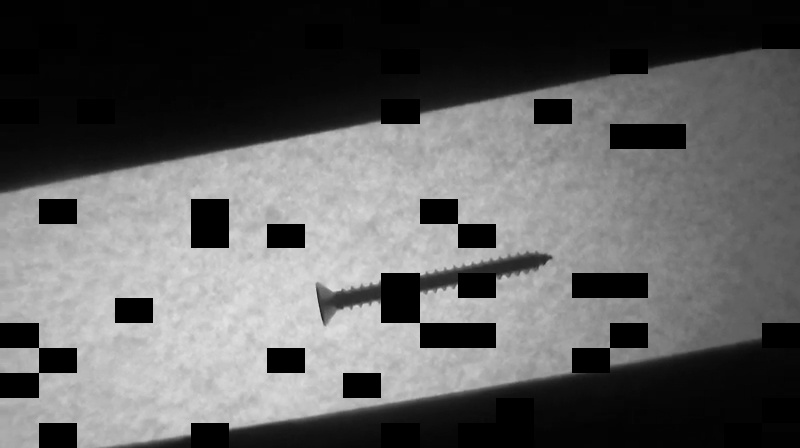S002: (312, 248, 556, 327)
